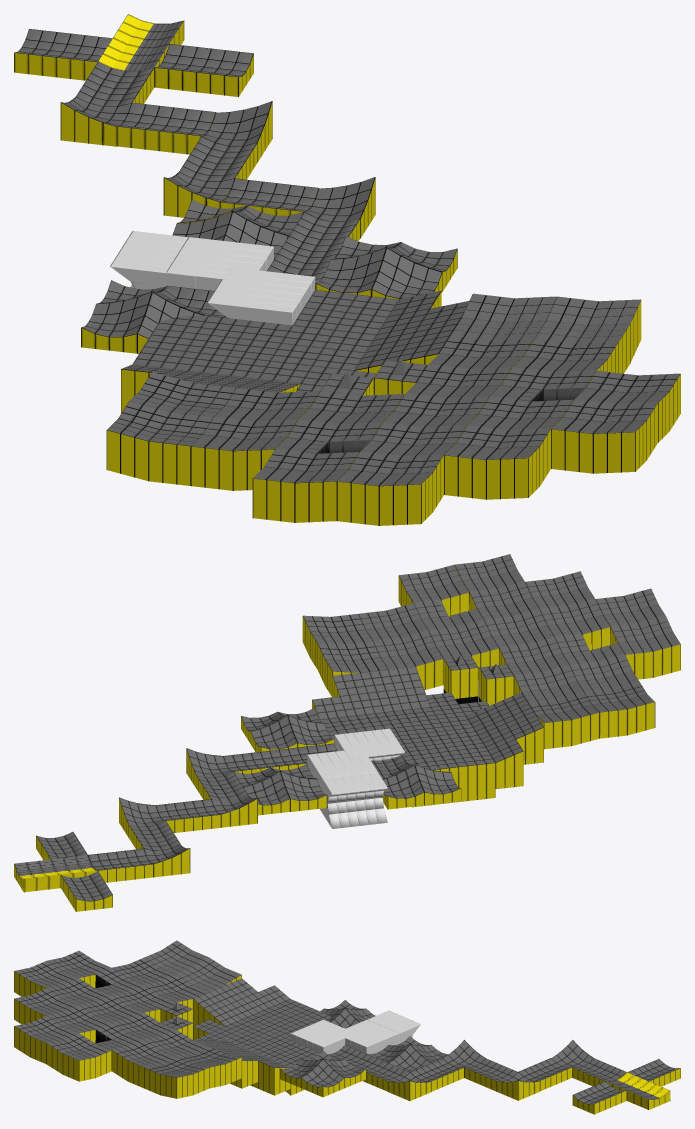
Rendered from levelOne.glb.
3 views of the same model, one above another, from view 1: azimuth 30°, elevation 25°; view 2: azimuth 150°, elevation 25°; view 3: azimuth 270°, elevation 25° (orthographic). The views are drawn at different scales.
Parts seen in each view (by area): view 1: Grid__4_, Grid, Grid__3_, Grid_003_2, Grid__5_, Grid_3, Cube, Grid_001_1, chute__5__1, chute1, Grid_002_1, chute__4_ (+56 smaller); view 2: Cube_3, Grid__5_, Grid_003_2, Grid_002_2, Grid_003_1, Grid__1_, Grid_002_1, Grid__6_, Grid_001_1, Goal, Grid_003, Grid_001_2 (+44 smaller); view 3: Grid__6_, Grid_001_1, Grid__3_, Grid_2, Grid_002_1, Grid__4_, Cube, Grid, Goal, Cube_1, Grid_002_2, chute__5__1 (+44 smaller).
Boxes of the visible parts, box(x1,y1,x2,y2) form: Grid__4_: box(337, 452, 443, 525); Grid: box(444, 426, 550, 499); Grid__3_: box(551, 400, 657, 473); Grid_003_2: box(106, 401, 213, 485); Grid__5_: box(252, 449, 359, 522); Grid_3: box(191, 417, 297, 490); Cube: box(207, 267, 315, 325); Grid_001_1: box(535, 296, 641, 373); chute__5__1: box(154, 44, 253, 96); chute1: box(116, 102, 216, 154); Grid_002_1: box(450, 293, 556, 340); chute__4_: box(14, 29, 112, 80); Cube_3: box(318, 772, 387, 828); Grid__5_: box(610, 616, 680, 679); Grid_003_2: box(585, 682, 655, 738); Grid_002_2: box(529, 693, 599, 749); Grid_003_1: box(373, 631, 443, 690); Grid__1_: box(429, 620, 499, 679); Grid_002_1: box(317, 641, 387, 696); Grid__6_: box(398, 564, 469, 614); Grid_001_1: box(302, 614, 372, 669); Goal: box(14, 855, 97, 892); Grid_003: box(540, 599, 610, 646); Grid_001_2: box(514, 665, 583, 703); Grid__6_: box(46, 1033, 111, 1081); Grid_001_1: box(144, 1057, 209, 1098); Grid__3_: box(14, 1016, 78, 1064); Grid_2: box(112, 1040, 176, 1088); Grid_002_1: box(177, 1047, 241, 1088); Grid__4_: box(14, 961, 78, 996); Cube: box(290, 1019, 355, 1054); Grid: box(14, 988, 78, 1024); Goal: box(605, 1072, 670, 1109); Cube_1: box(345, 1019, 399, 1053); Grid_002_2: box(177, 957, 241, 991); chute__5__1: box(572, 1081, 626, 1114).
Bounding box in the file's own units: 86.18 × 18.14 × 174.
Materials: 2 (1 with a texture image).
